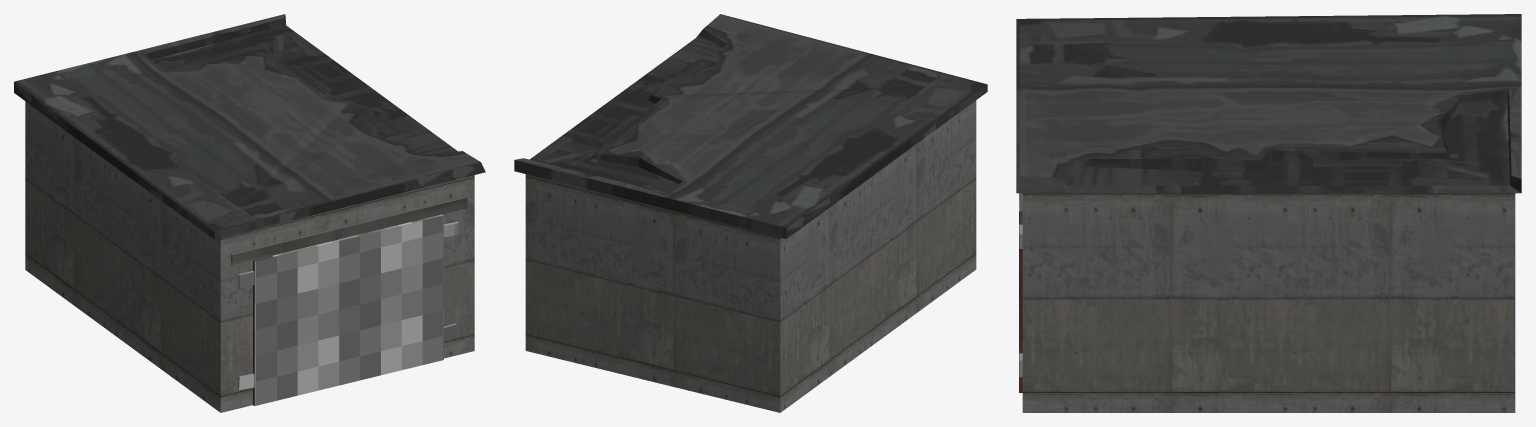
The model's file is bz_garage_03.fbx.
The picture shows the model from 3 angles, left to right: view 1: azimuth 30°, elevation 25°; view 2: azimuth 150°, elevation 25°; view 3: azimuth 270°, elevation 25°; orthographic projection. The views are drawn at different scales.
Parts seen in each view (by area): view 1: bz_garage_03; view 2: bz_garage_03; view 3: bz_garage_03.
Boxes of the visible parts, x1,y1,x2,y2 form: bz_garage_03: [14, 14, 485, 412]; bz_garage_03: [514, 14, 987, 412]; bz_garage_03: [1016, 14, 1521, 412].
Bounding box in the file's own units: 4.81 × 3.23 × 6.16.
